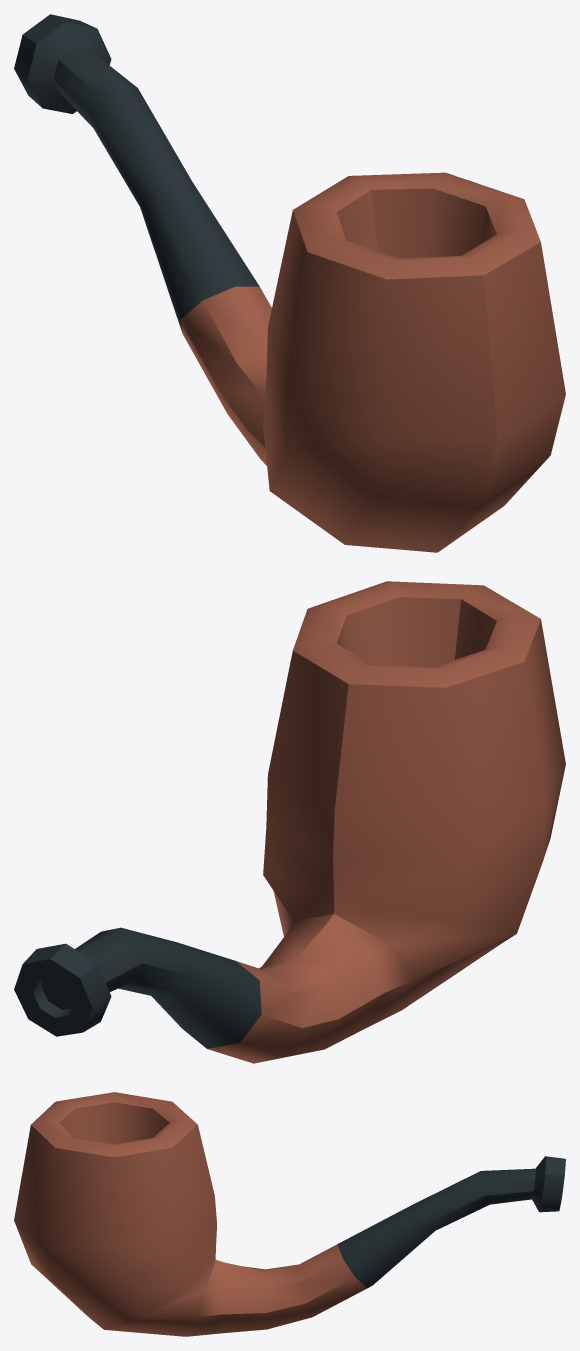
File: pipe.gltf.glb
3 renders of one model, top to bottom at view 1: azimuth 30°, elevation 25°; view 2: azimuth 150°, elevation 25°; view 3: azimuth 270°, elevation 25°, orthographic. The views are drawn at different scales.
Parts seen in each view (by area): view 1: pipe; view 2: pipe; view 3: pipe.
Part boxes in pixels (x1,y1,x2,y2): pipe: (14, 14, 565, 552); pipe: (14, 581, 565, 1063); pipe: (14, 1092, 565, 1336).
Bounding box in the file's own units: 0.1681 × 0.2149 × 0.5.
